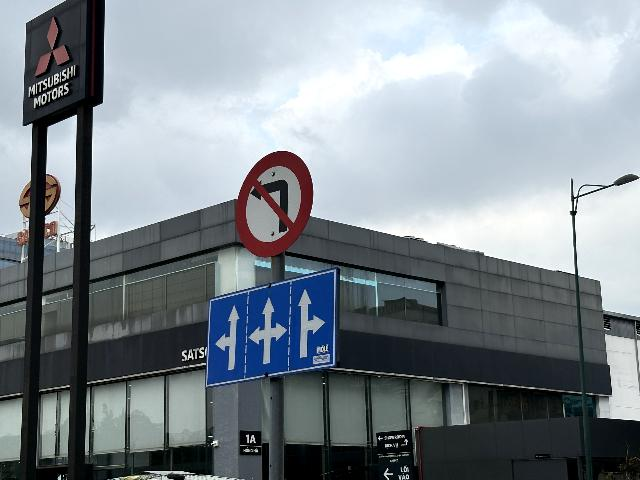cam-re-trai: (234, 149, 314, 259)
